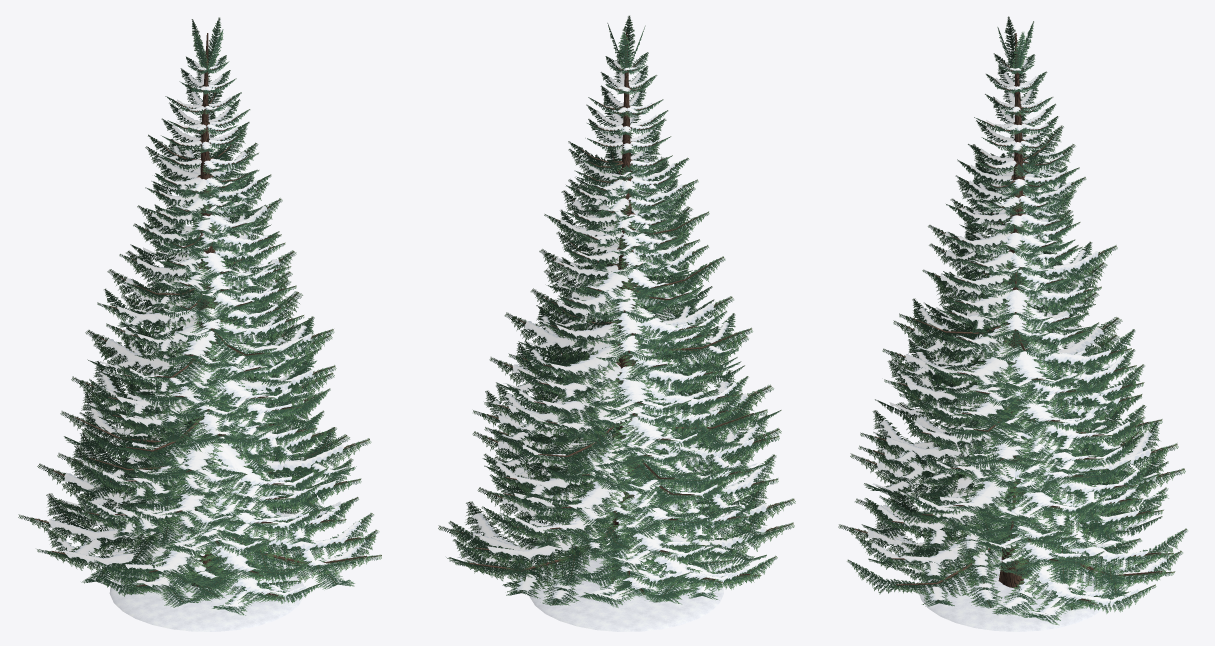
Rendered from snowy-spruce.glb.
3 views of the same model, side by side, from view 1: azimuth 30°, elevation 25°; view 2: azimuth 150°, elevation 25°; view 3: azimuth 270°, elevation 25° (orthographic).
Visible parts, largest first — view 1: Needles, Snow, SnowMound, Trunk; view 2: Needles, Snow, SnowMound, Trunk; view 3: Needles, Snow, SnowMound, Trunk.
Part boxes in pixels (<box>): Needles: <box>18,17,381,615</box>; Snow: <box>49,60,366,608</box>; SnowMound: <box>109,552,304,631</box>; Trunk: <box>35,33,366,595</box>; Needles: <box>438,15,795,607</box>; Snow: <box>457,57,767,600</box>; SnowMound: <box>529,549,723,631</box>; Trunk: <box>455,32,778,591</box>; Needles: <box>838,16,1187,624</box>; Snow: <box>867,58,1166,616</box>; SnowMound: <box>919,549,1113,631</box>; Trunk: <box>855,33,1169,601</box>.
Size of the model in its own units: 6.85 by 11.19 by 6.59.
Materials: 4 (4 with a texture image).
